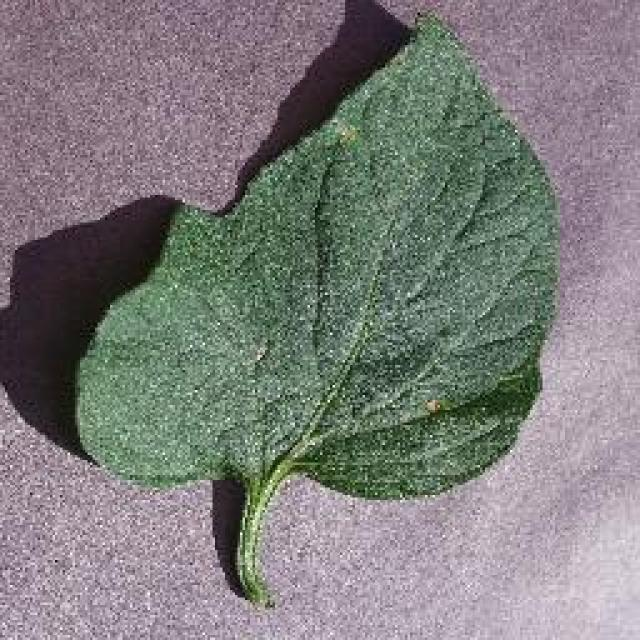Tom_Target_Spot: (306, 101, 374, 162), (403, 373, 458, 435)
